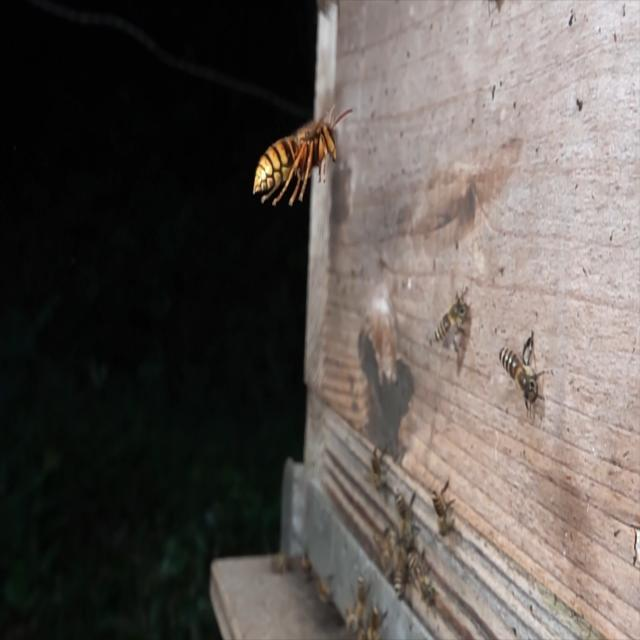Bees: (499, 330, 548, 420), (432, 286, 469, 357), (432, 474, 457, 537)
Hornets: (253, 102, 352, 207)
